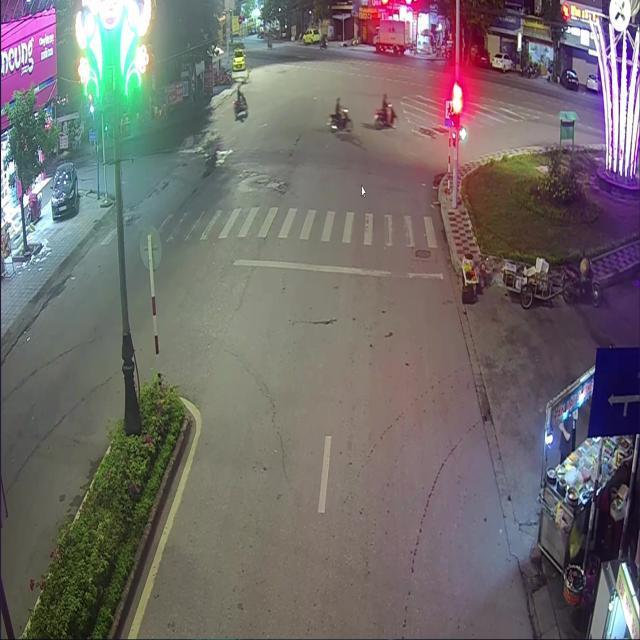motobike: (327, 107, 352, 132), (373, 106, 396, 127)
red_light: (452, 97, 459, 127)
stop_line: (231, 258, 442, 280)
